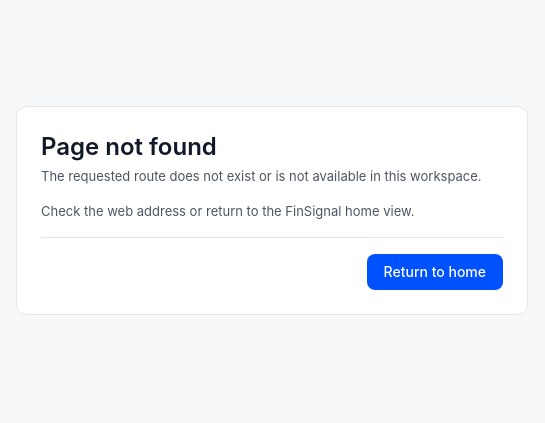
Test: Application resilience and F2 routing › renders NotFoundPage on unknown routes and enforces auth redirect when returning to /
Expected: the heading "Page not found" is shown, [41,132,217,160]
Click the link "Return to home": x=435, y=272 [367,254,503,290]
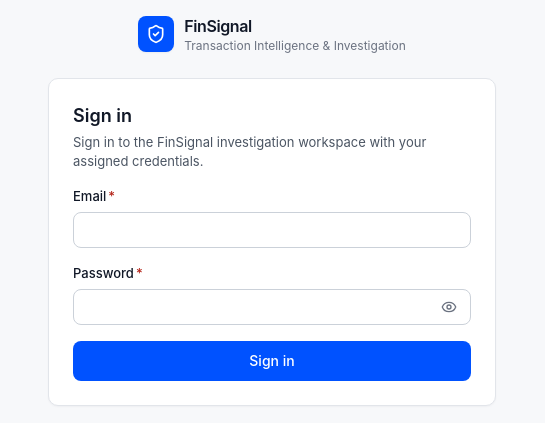
Expected: the heading "Sign in" is shown, [73,105,132,126]
